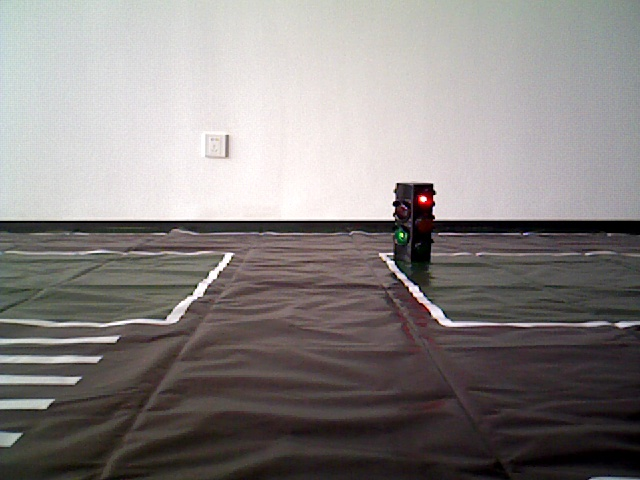red: (396, 185, 431, 271)
